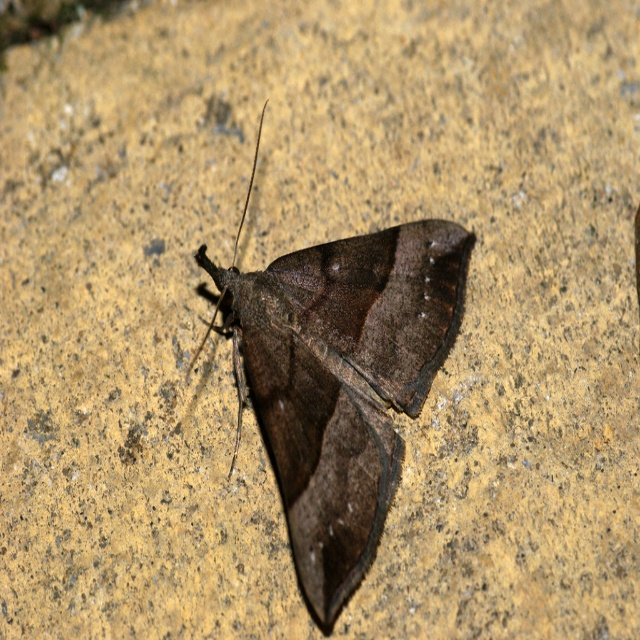Butterfly: (181, 75, 480, 620)
